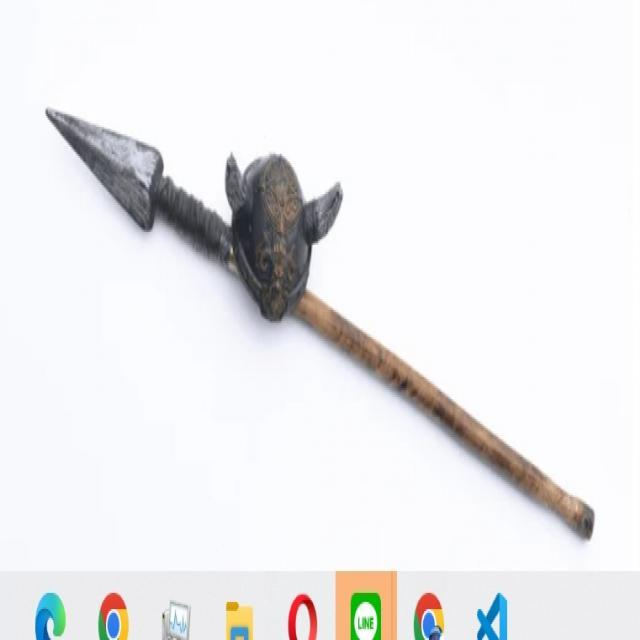spear: (33, 79, 606, 556)
